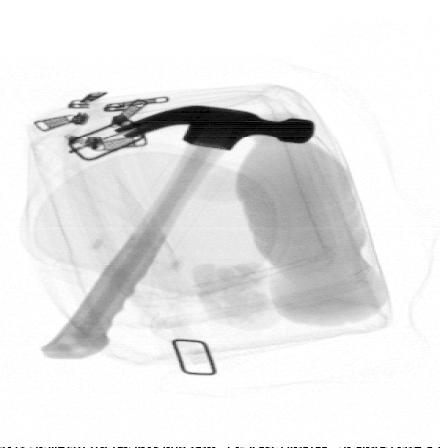Hammer: (37, 103, 316, 360)
